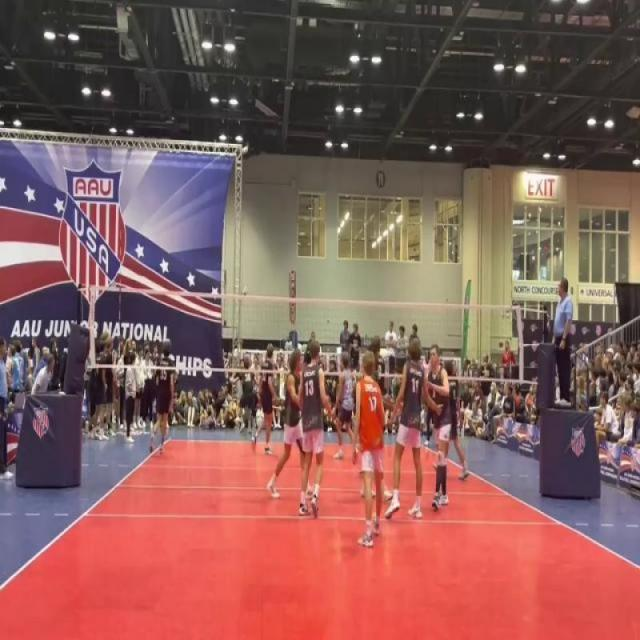volleyball: (242, 284, 248, 297)
